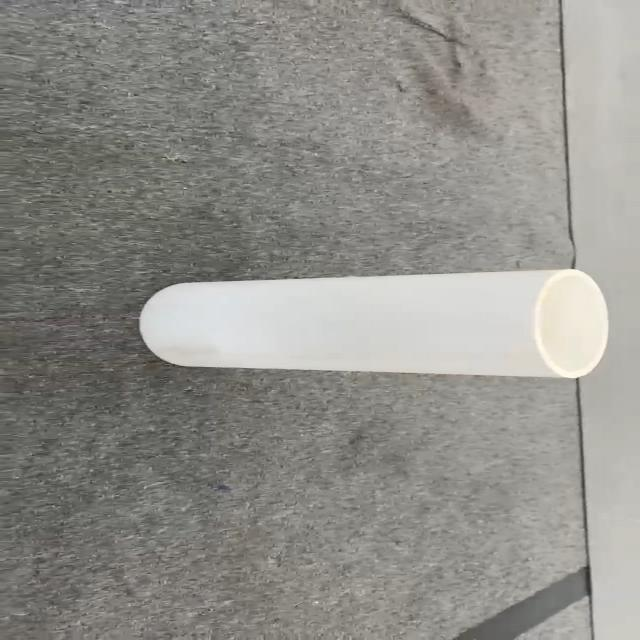coral: (137, 267, 610, 379)
